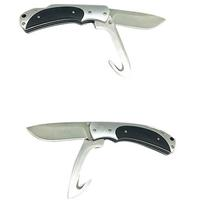knife: (17, 112, 185, 200), (13, 2, 177, 79)
